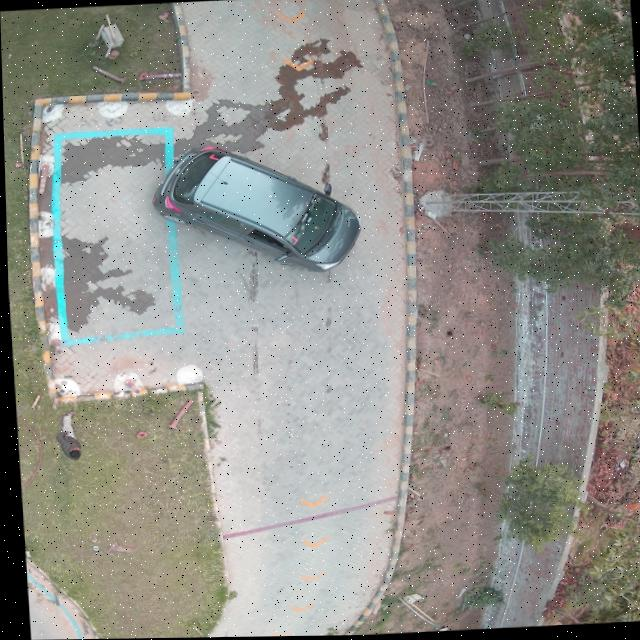car: (151, 146, 358, 273)
